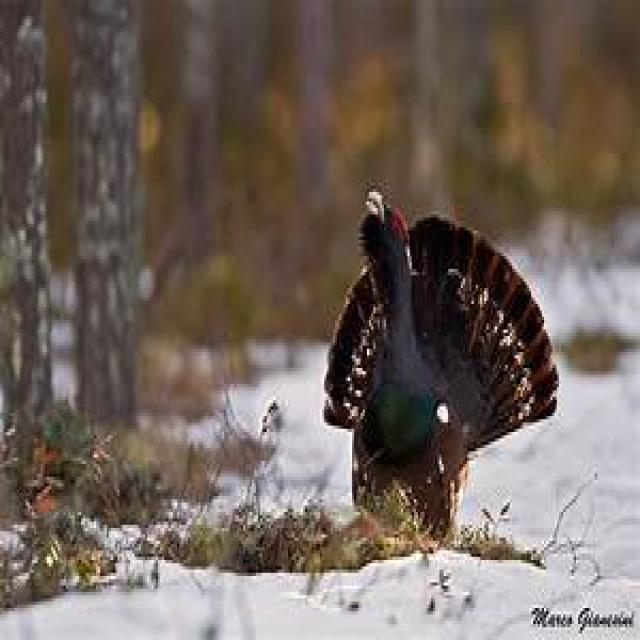animal: (320, 185, 559, 540)
